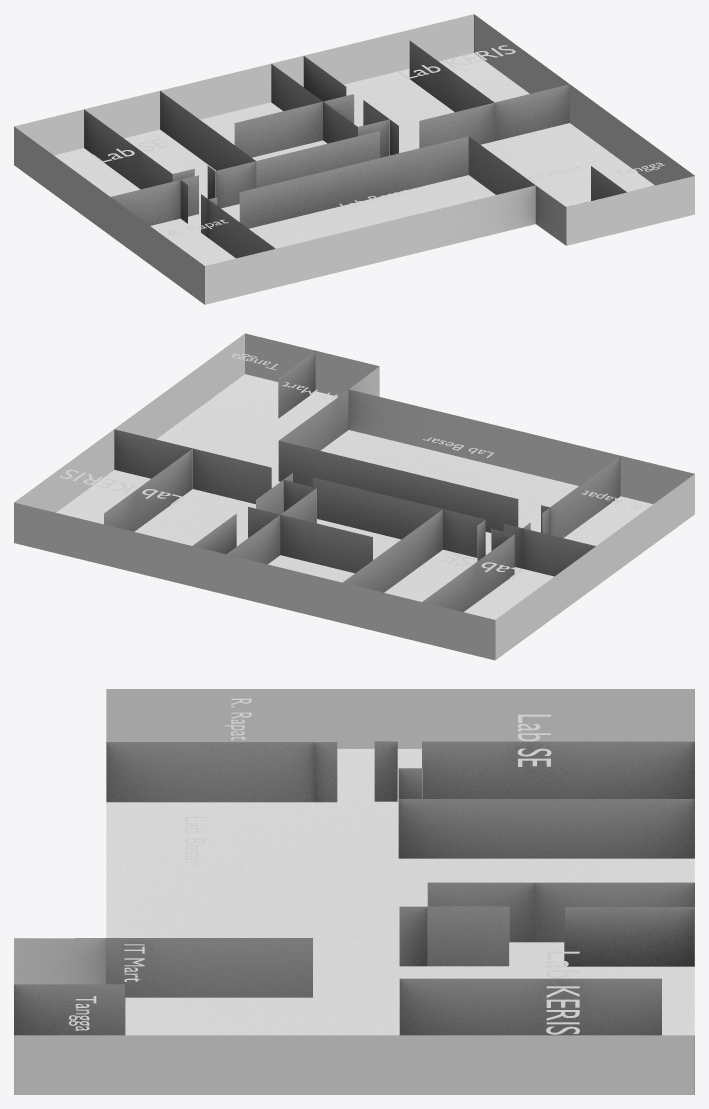
File: rise_center_lt2.glb
3 views of the same model, one above another, from view 1: azimuth 30°, elevation 25°; view 2: azimuth 150°, elevation 25°; view 3: azimuth 270°, elevation 25° (orthographic). The views are drawn at different scales.
Visible parts, largest first — view 1: Plane.001, Text.007; view 2: Plane.001, Text.007; view 3: Plane.001, Text.007, Text.006.
Boxes of the visible parts, x1,y1,x2,y2 form: Plane.001: (14, 14, 694, 304); Text.007: (397, 45, 515, 79); Plane.001: (14, 333, 694, 660); Text.007: (60, 469, 183, 504); Plane.001: (14, 689, 694, 1094); Text.007: (546, 951, 579, 1034); Text.006: (517, 714, 551, 766).
Bounding box in the file's own units: 4.94 × 0.3975 × 4.11.
1 material, 1 textured.
